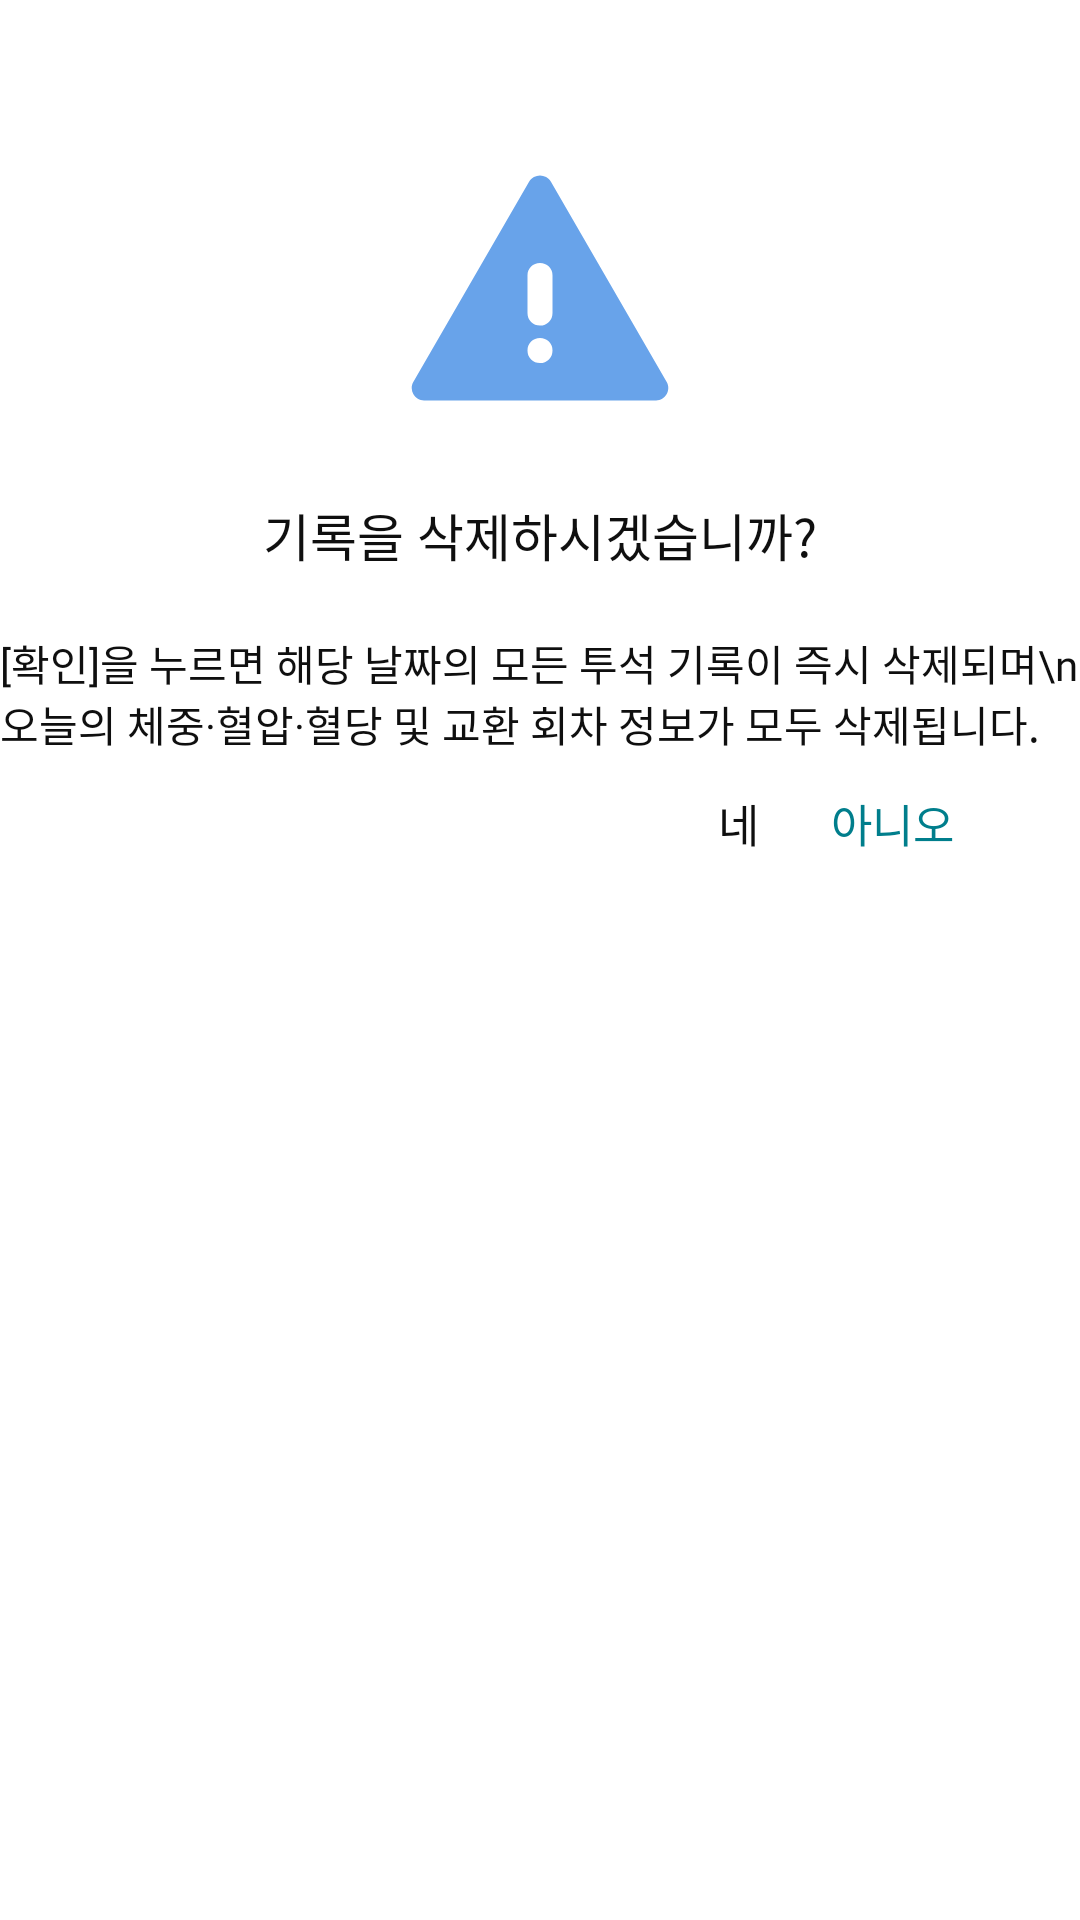

Icon click points for this 1080×1920 phone screenshot, format (x=x, y=y):
warning sv: (x=540, y=288)
